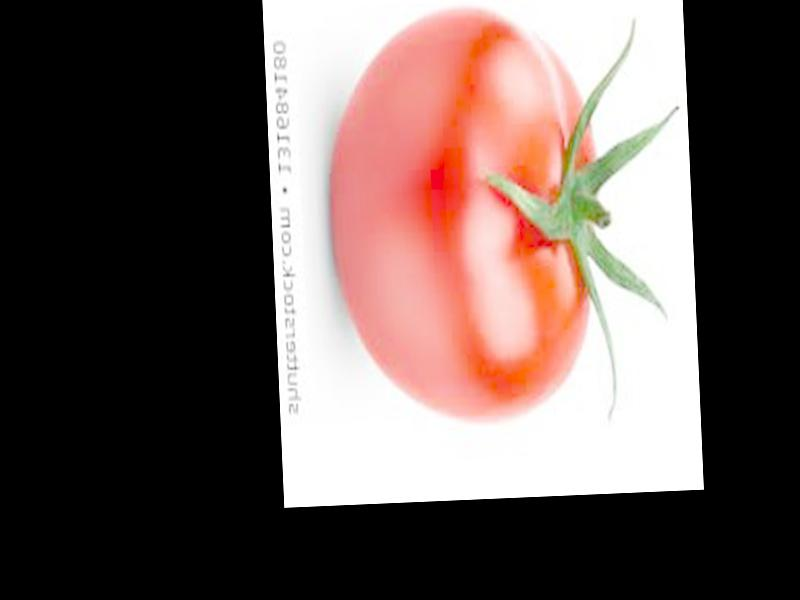Tomato: (325, 1, 604, 427)
